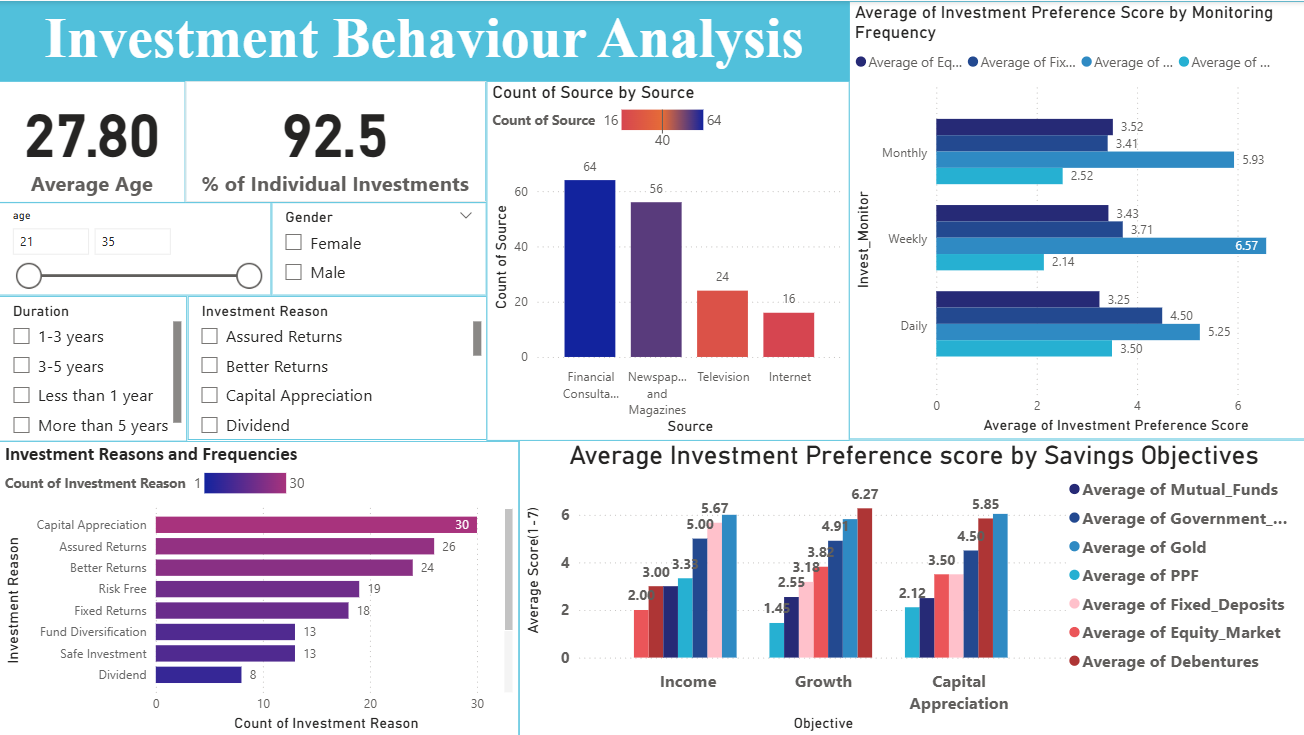

What the dashboard file says about the page in this screenshot:
{"tool":"powerbi","page":{"name":"Task 7 Visuals","canvas":[1280,720],"ordinal":6},"visuals":[{"type":"clusteredColumnChart","title":"Average Investment Preference score by Savings Objectives","fields":{"Y":["Avg(Data_set 2.Mutual_Funds)","Avg(Data_set 2.Government_Bonds)","Avg(Data_set 2.Gold)","Avg(Data_set 2.PPF)","Avg(Data_set 2.Fixed_Deposits)","Avg(Data_set 2.Equity_Market)","Avg(Data_set 2.Debentures)"],"Category":["Data_set 2.Objective"]},"box":[508.7,429,771,291.3],"z":0},{"type":"clusteredBarChart","title":"Average of Investment Preference Score by Monitoring Frequency","fields":{"Category":["Data_set 2.Invest_Monitor"],"Y":["Avg(Data_set 2.Equity_Market)","Avg(Data_set 2.Fixed_Deposits)","Avg(Data_set 2.Gold)","Avg(Data_set 2.Mutual_Funds)"]},"box":[831.9,0,447.8,429],"z":1000},{"type":"slicer","fields":{"Values":["Data_set 2.age"]},"box":[0,197.1,266.7,91.3],"z":2000},{"type":"slicer","fields":{"Values":["Data_set 2.Gender"]},"box":[266.7,197.1,210.1,91.3],"z":3000},{"type":"slicer","fields":{"Values":["Data_set 2.Duration"]},"box":[0,288.4,184.1,142],"z":4000},{"type":"slicer","fields":{"Values":["Data_set 2.Investment Reason"]},"box":[184.1,288.4,292.8,140.6],"z":5000},{"type":"card","fields":{"Values":["Data_set 2.Average Age"]},"box":[0,78.3,182.6,118.8],"z":6000},{"type":"card","fields":{"Values":["Data_set 2.Percentage of Individual Investments"]},"box":[182.6,78.3,294.2,118.8],"z":7000},{"type":"clusteredBarChart","title":"Investment Reasons and Frequencies","fields":{"Category":["Data_set 2.Investment Reason"],"Y":["CountNonNull(Data_set 2.Investment Reason)"]},"box":[0,430.4,508.7,289.9],"z":8000},{"type":"clusteredColumnChart","fields":{"Y":["CountNonNull(Data_set 2.Source)"],"Category":["Data_set 2.Source"]},"box":[476.8,78.3,355.1,352.2],"z":9000},{"type":"textbox","box":[0,0,831.9,78.3],"z":10000}]}

Visuals, with their boxes in screenshot pixels (x1, y1, x2, y2), scaled from the page's 1280x720 canvas onto the 1304x735 screenshot:
"Average Investment Preference score by Savings Objectives" clusteredColumnChart: detection(518, 438, 1303, 734)
"Average of Investment Preference Score by Monitoring Frequency" clusteredBarChart: detection(847, 0, 1303, 438)
slicer - Data_set 2.age: detection(0, 201, 272, 294)
slicer - Data_set 2.Gender: detection(272, 201, 486, 294)
slicer - Data_set 2.Duration: detection(0, 294, 188, 439)
slicer - Data_set 2.Investment Reason: detection(188, 294, 486, 438)
card - Data_set 2.Average Age: detection(0, 80, 186, 201)
card - Data_set 2.Percentage of Individual Investments: detection(186, 80, 486, 201)
"Investment Reasons and Frequencies" clusteredBarChart: detection(0, 439, 518, 734)
clusteredColumnChart - CountNonNull(Data_set 2.Source) x Data_set 2.Source: detection(486, 80, 847, 439)
textbox: detection(0, 0, 847, 80)
